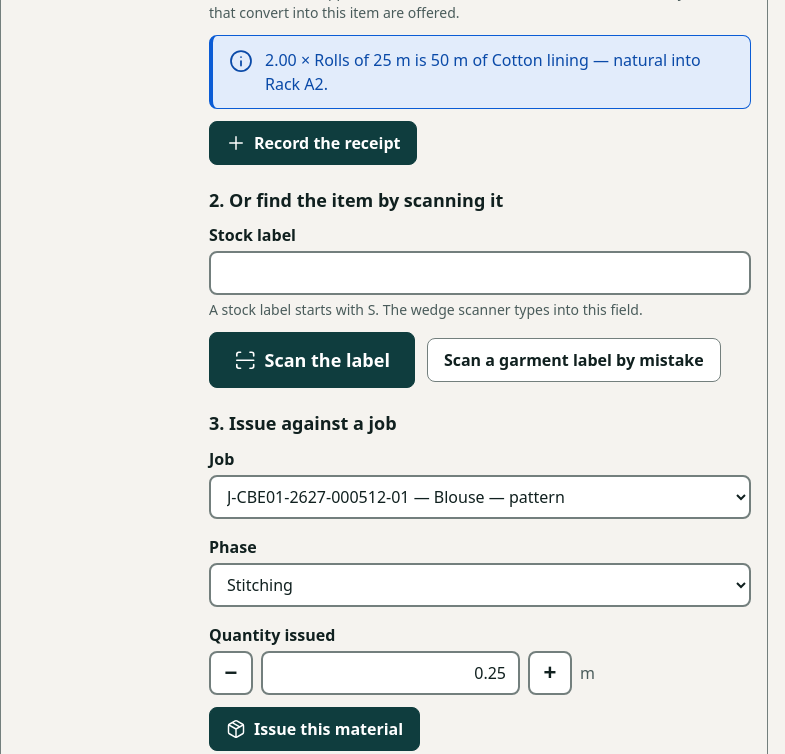
Test: A11Y-RJ-05 — Inventory Clerk: receive, issue and count › refuses a garment label scanned into the stock field by naming the namespace rule
(page scrolled)
Click the button "Scan a garment label by mistake". click: {"x": 574, "y": 360}
box: [427, 338, 721, 382]
(page scrolled)
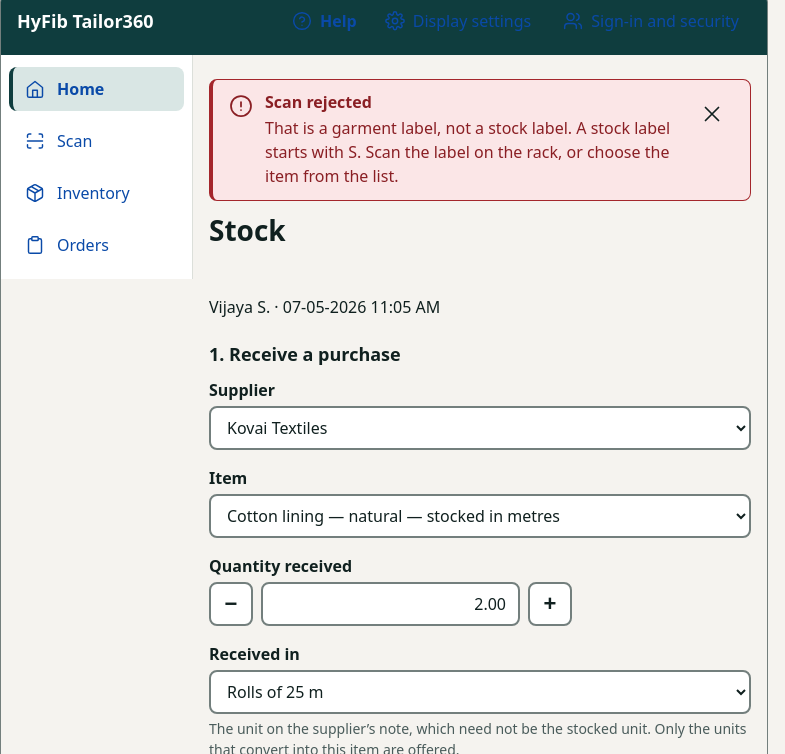
Expected: the text "That is a garment label, not a stock label" is shown, [265, 117, 670, 187]
